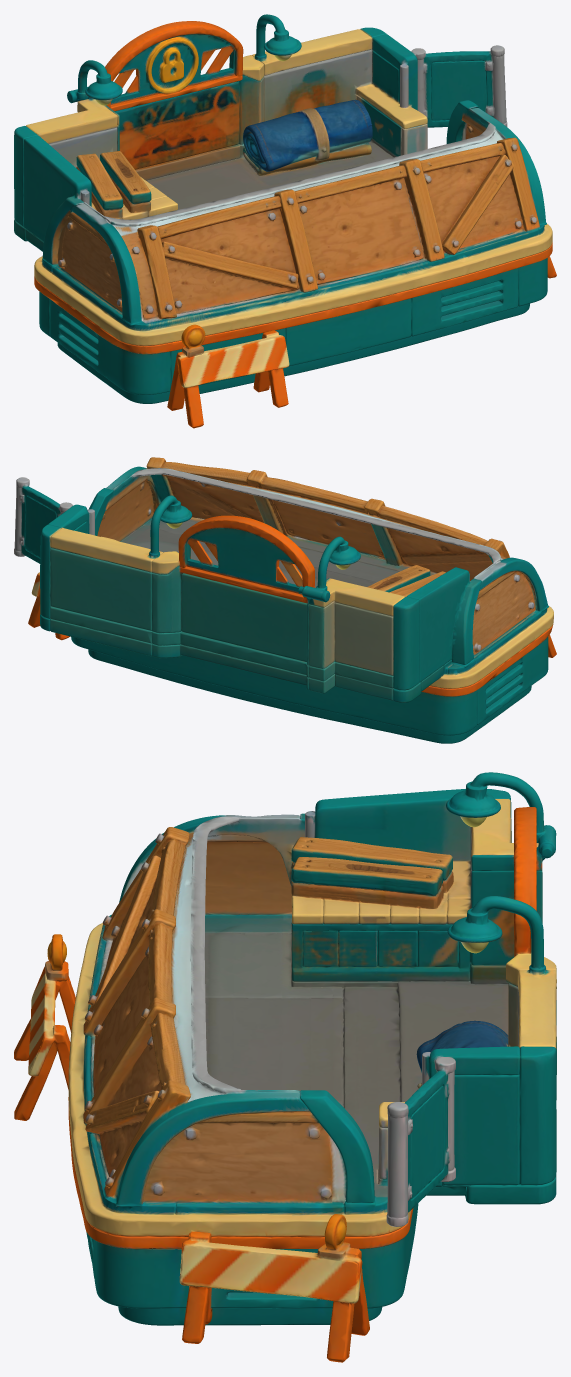
The model's file is PickupBed.glb.
3 views of the same model, one above another, from view 1: azimuth 30°, elevation 25°; view 2: azimuth 150°, elevation 25°; view 3: azimuth 270°, elevation 25° (orthographic). The views are drawn at different scales.
Visible parts, largest first — view 1: tripo_node_4862d608-f6d6-4de3-9905-3aa7f2b2983a; view 2: tripo_node_4862d608-f6d6-4de3-9905-3aa7f2b2983a; view 3: tripo_node_4862d608-f6d6-4de3-9905-3aa7f2b2983a.
Part boxes in pixels (<box>): tripo_node_4862d608-f6d6-4de3-9905-3aa7f2b2983a: <box>14,14,556,428</box>; tripo_node_4862d608-f6d6-4de3-9905-3aa7f2b2983a: <box>14,457,556,743</box>; tripo_node_4862d608-f6d6-4de3-9905-3aa7f2b2983a: <box>14,772,556,1362</box>.
Bounding box in the file's own units: 0.9804 × 0.4584 × 0.656.
Materials: 1 (1 with a texture image).
